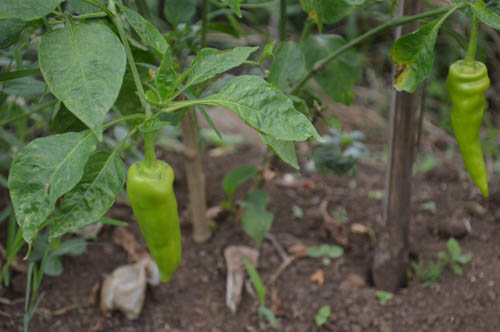ChiliPepper: (126, 163, 185, 280), (452, 63, 491, 194)
